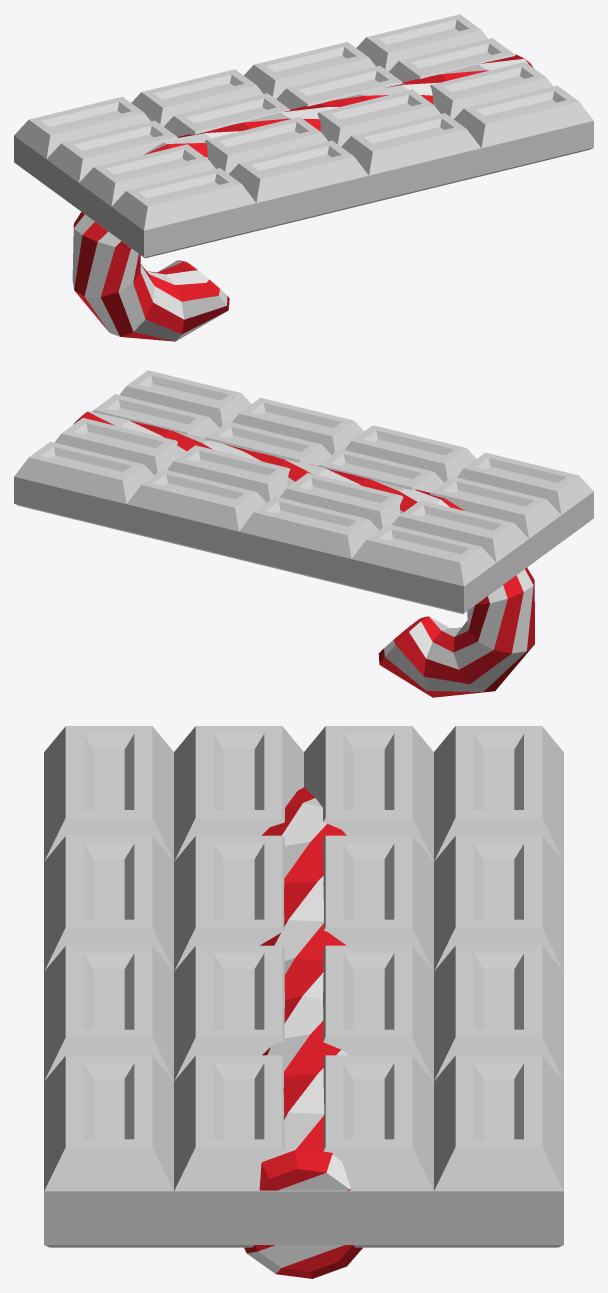
The model's file is PlatformsTest.fbx.
3 views of the same model, one above another, from view 1: azimuth 30°, elevation 25°; view 2: azimuth 150°, elevation 25°; view 3: azimuth 270°, elevation 25° (orthographic). The views are drawn at different scales.
Parts seen in each view (by area): view 1: Choco1, CanePlatform; view 2: Choco1, CanePlatform; view 3: Choco1, CanePlatform.
Boxes of the visible parts, <box> form: Choco1: <box>14,14,593,258</box>; CanePlatform: <box>72,54,533,341</box>; Choco1: <box>14,370,593,614</box>; CanePlatform: <box>73,411,534,697</box>; Choco1: <box>44,726,563,1247</box>; CanePlatform: <box>244,787,362,1278</box>.
Size of the model in its own units: 802 by 400 by 332.
